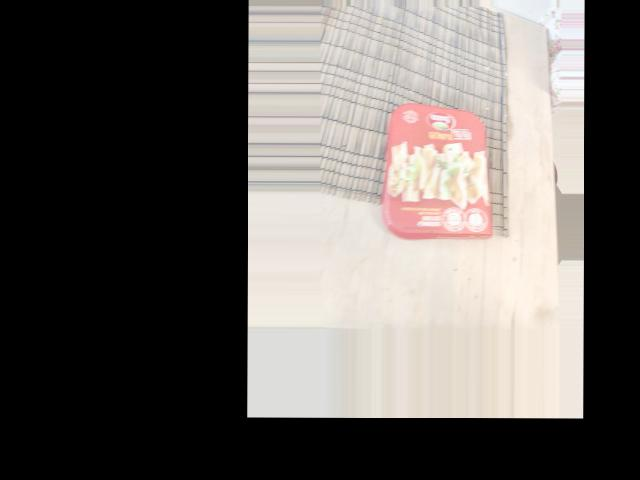cheese: (335, 74, 474, 159)
